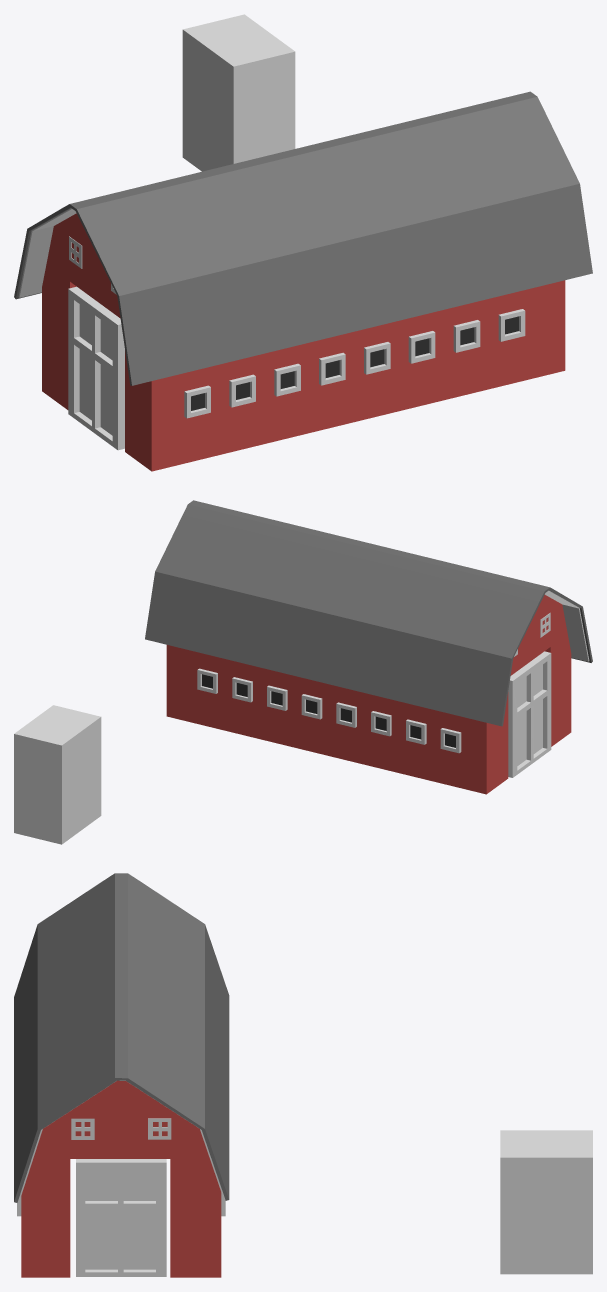
Rendered from Barn_Bolong_door.glb.
3 views of the same model, one above another, from view 1: azimuth 30°, elevation 25°; view 2: azimuth 150°, elevation 25°; view 3: azimuth 270°, elevation 25° (orthographic). The views are drawn at different scales.
Visible parts, largest first — view 1: Cube.001_1, Cube_0, Cube, Cube.005_5, Cube.003_3, Cube.004_4, Cube.002_2; view 2: Cube.001_1, Cube_0, Cube, Cube.005_5, Cube.003_3, Cube.004_4, Cube.002_2; view 3: Cube.001_1, Cube_0, Cube, Cube.005_5.
Part boxes in pixels (bbox=[...]): Cube.001_1: bbox=[14, 91, 592, 385]; Cube_0: bbox=[42, 213, 565, 471]; Cube: bbox=[182, 14, 295, 171]; Cube.005_5: bbox=[68, 286, 124, 450]; Cube.003_3: bbox=[184, 309, 525, 418]; Cube.004_4: bbox=[191, 316, 518, 410]; Cube.002_2: bbox=[18, 208, 76, 297]; Cube.001_1: bbox=[145, 500, 592, 726]; Cube_0: bbox=[166, 595, 571, 794]; Cube: bbox=[14, 705, 101, 844]; Cube.005_5: bbox=[508, 651, 551, 777]; Cube.003_3: bbox=[197, 668, 461, 753]; Cube.004_4: bbox=[202, 674, 455, 747]; Cube.002_2: bbox=[545, 590, 589, 661]; Cube.001_1: bbox=[14, 873, 229, 1202]; Cube_0: bbox=[21, 1080, 221, 1277]; Cube: bbox=[500, 1130, 592, 1274]; Cube.005_5: bbox=[76, 1159, 166, 1276].
Size of the model in its own units: 25.41 by 12.15 by 30.35.
